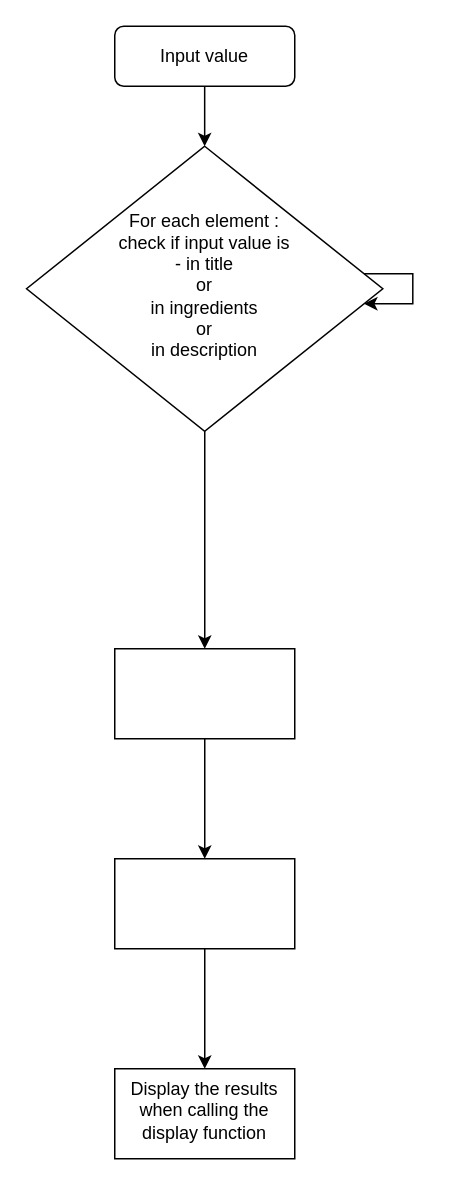
Image size: 452x1185. Some labels were removed from this diagram. Here are the shapes that lost their labels. From the top down, the centre of each, then its label:
At point (204, 693): "Push element in array".
At point (204, 903): "Set it to verify for doubles entries".
